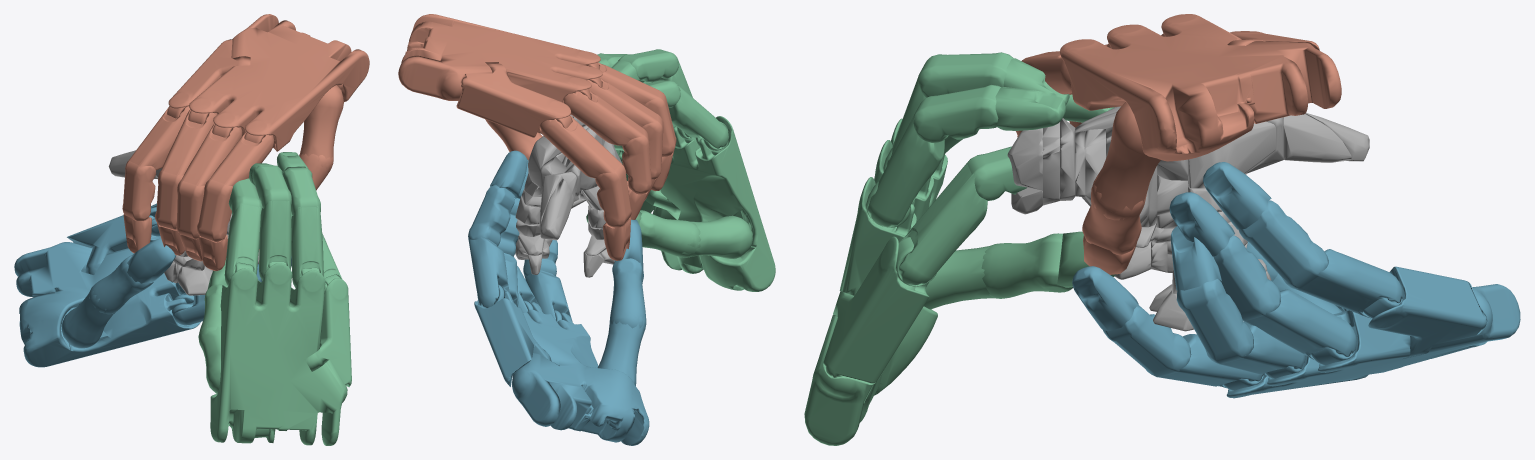
The model's file is novel_mujoco-Transformers_Age_of_Extinction_Stomp_and_Chomp_Grimlock_Figure_grasp.glb.
3 views of the same model, side by side, from view 1: azimuth 30°, elevation 25°; view 2: azimuth 150°, elevation 25°; view 3: azimuth 270°, elevation 25° (orthographic). The views are drawn at different scales.
Size of the model in its own units: 0.205 by 0.213 by 0.2849.
